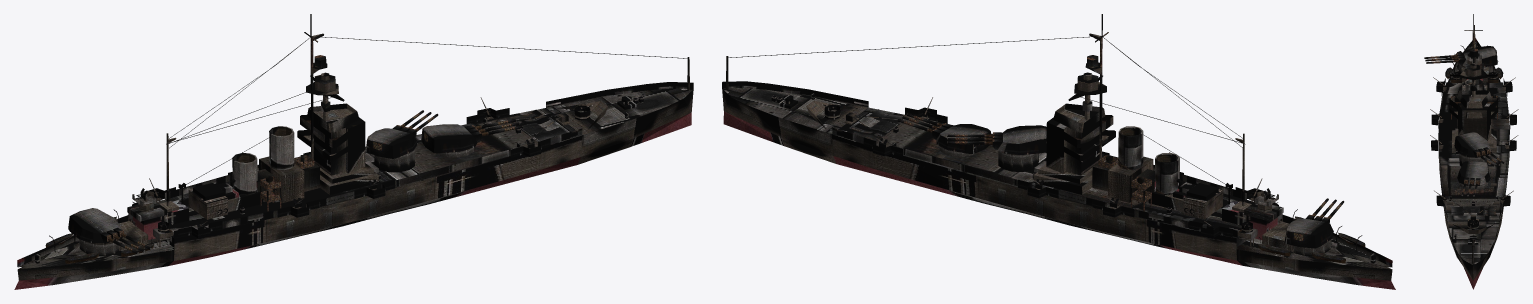
Rendered from bismark.obj.
The picture shows the model from 3 angles, left to right: view 1: azimuth 30°, elevation 25°; view 2: azimuth 150°, elevation 25°; view 3: azimuth 270°, elevation 25°; orthographic projection. The views are drawn at different scales.
Parts seen in each view (by area): view 1: polySurface2558; view 2: polySurface2558; view 3: polySurface2558.
Boxes of the visible parts, box(x1,y1,x2,y2) form: polySurface2558: box(14, 14, 693, 289); polySurface2558: box(722, 14, 1395, 289); polySurface2558: box(1424, 14, 1518, 289).
Size of the model in its own units: 14.85 by 4.27 by 2.53.
Materials: 1 (1 with a texture image).
